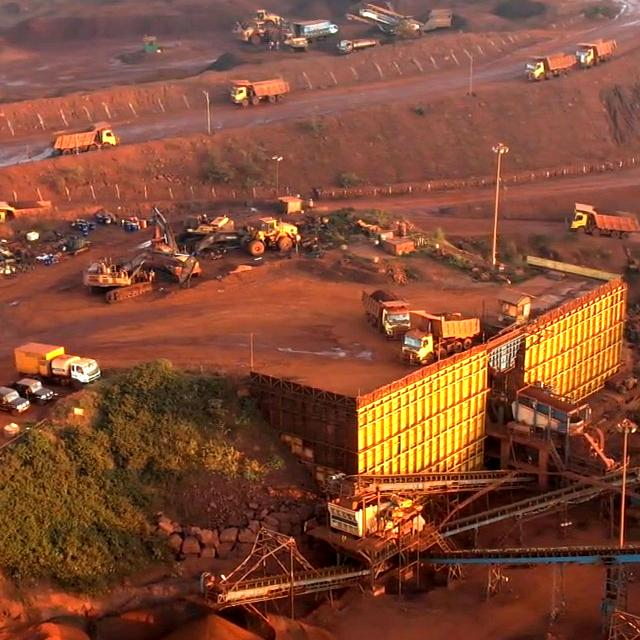Dumper truck: (571, 206, 640, 236), (407, 309, 449, 357), (366, 289, 411, 332), (59, 126, 118, 153), (231, 80, 287, 106), (524, 57, 572, 80), (576, 44, 617, 66), (0, 201, 47, 220)
Excavator: (148, 204, 195, 280), (85, 258, 150, 297)
